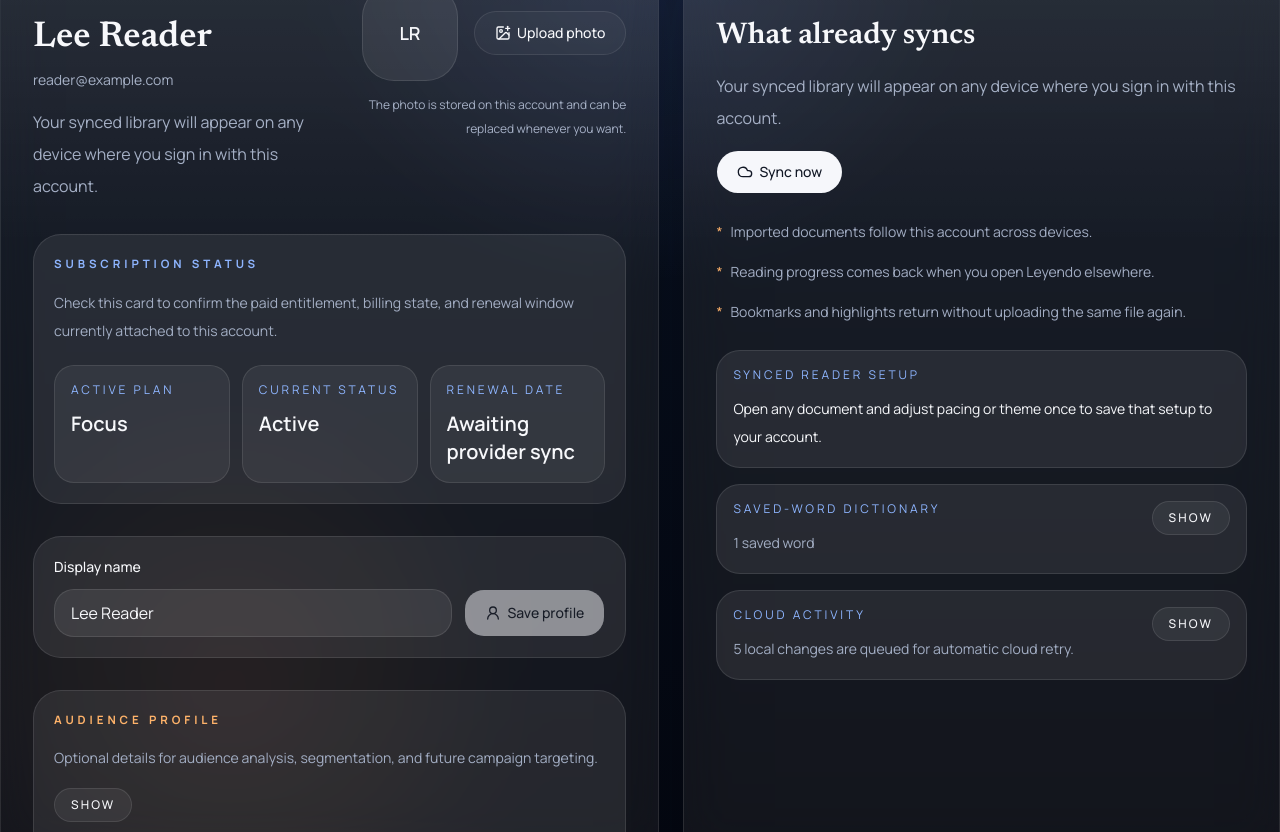
Test: AccountPanel › updates expanded state on optional account sections
Click the button with aria-label "show audience profile" at (93, 805), box [54, 788, 132, 822]
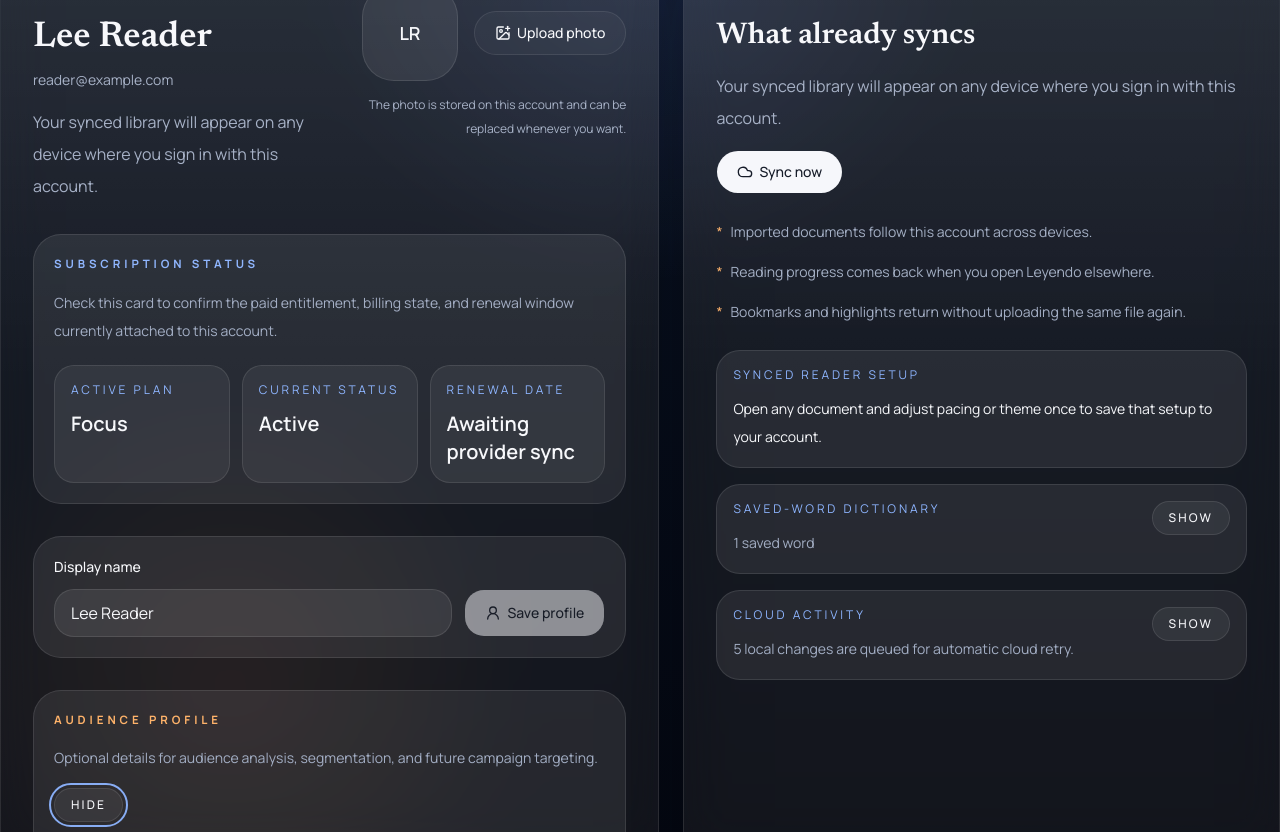
Now the button named "show audience profile" is expanded, box [54, 788, 123, 822]
Click the button with aria-label "show saved-word dictionary" at (1191, 518), box [1152, 501, 1230, 535]
(page scrolled)
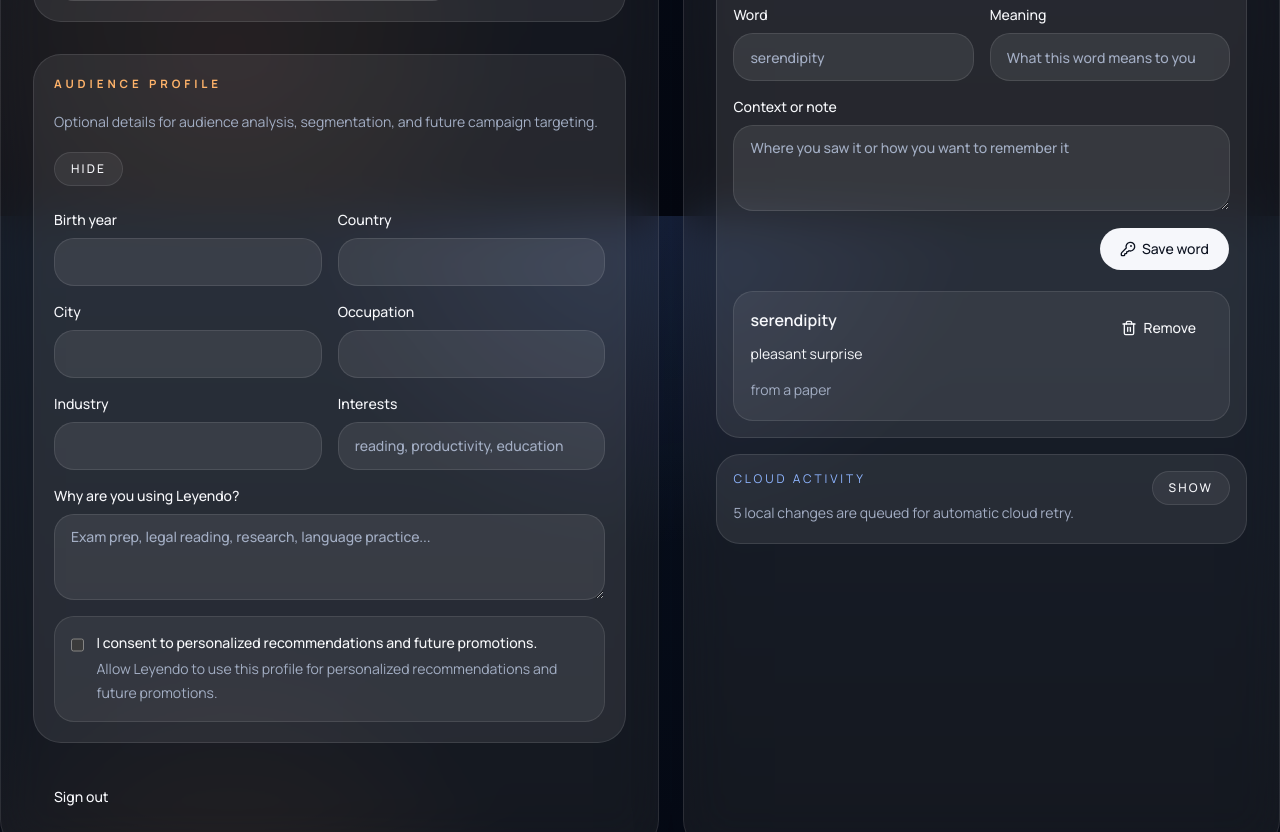
Click the button with aria-label "show cloud activity" at (1191, 488), box [1152, 471, 1230, 505]
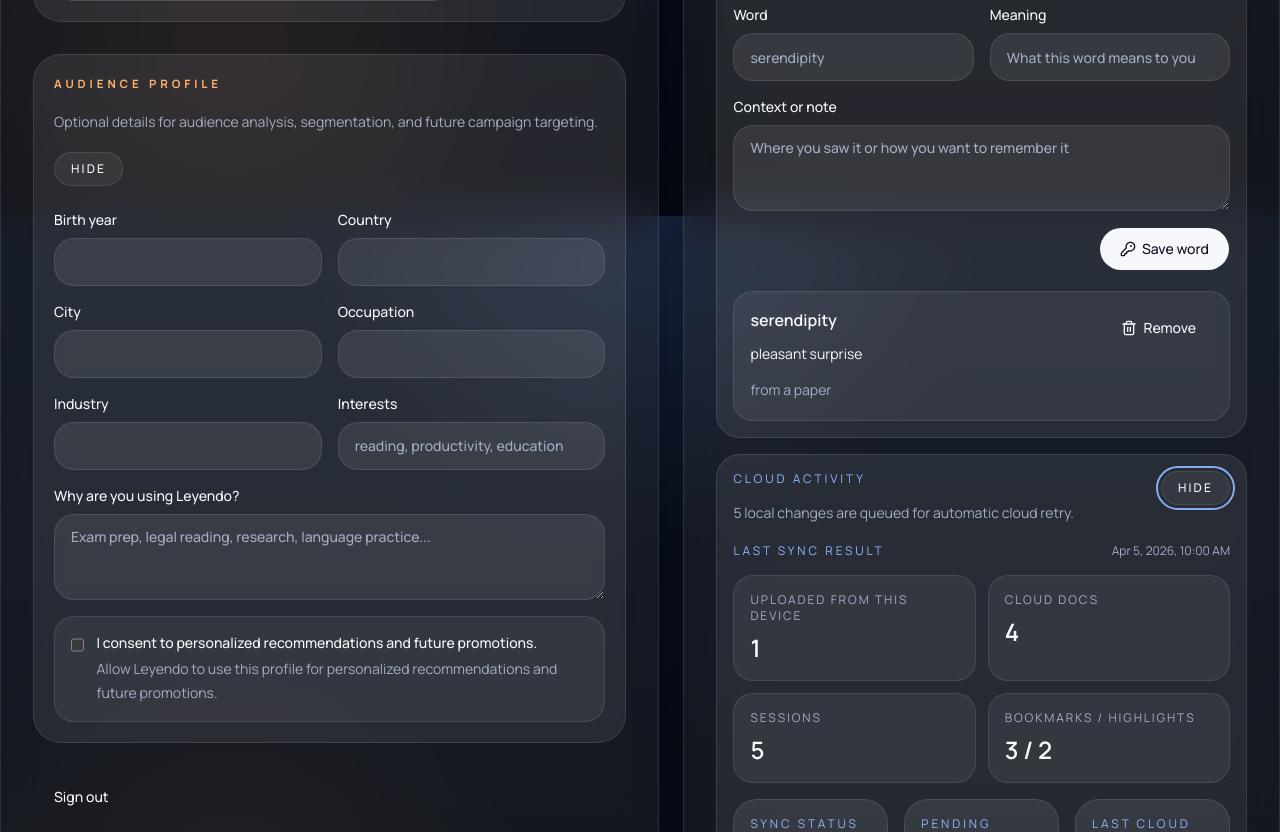
Now the button named "show cloud activity" is expanded, box [1161, 471, 1230, 505]
